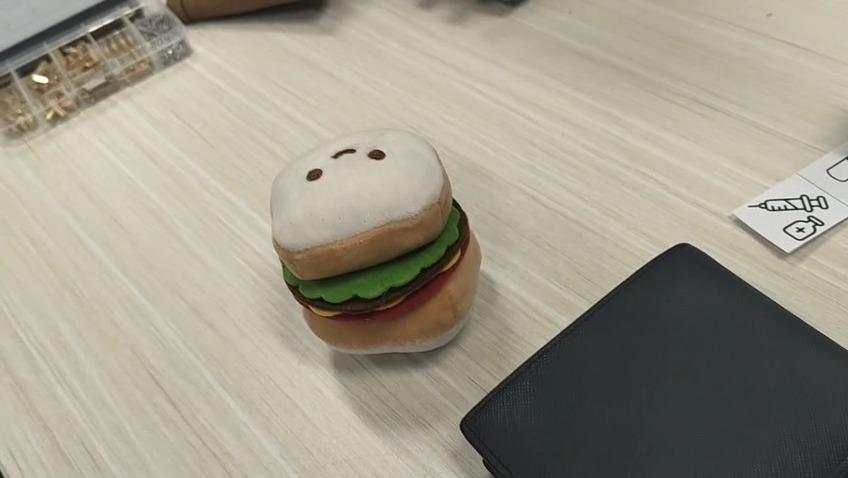objects: (270, 129, 482, 354)
